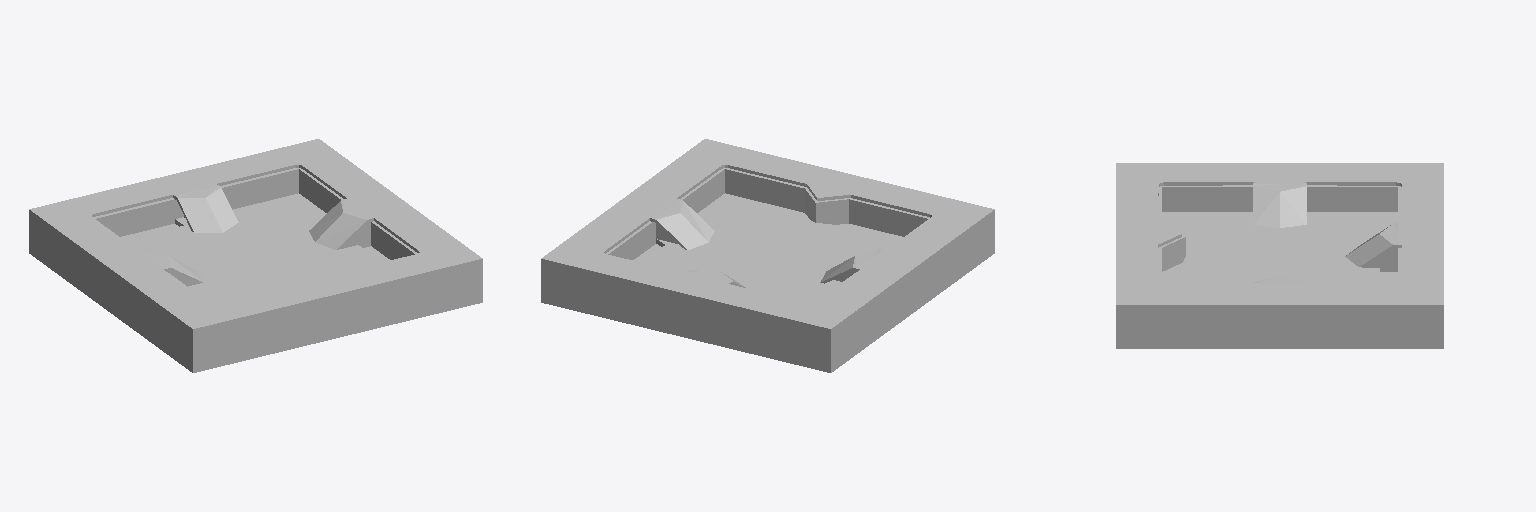
The model's file is AnteChamber.obj.
3 renders of one model, left to right at view 1: azimuth 30°, elevation 25°; view 2: azimuth 150°, elevation 25°; view 3: azimuth 270°, elevation 25°, orthographic.
Visible parts, largest first — view 1: pCube1; view 2: pCube1; view 3: pCube1.
Boxes of the visible parts, x1,y1,x2,y2 form: pCube1: [29, 139, 482, 372]; pCube1: [541, 139, 994, 372]; pCube1: [1116, 163, 1443, 348].
Size of the model in its own units: 17.04 by 2.48 by 16.69.